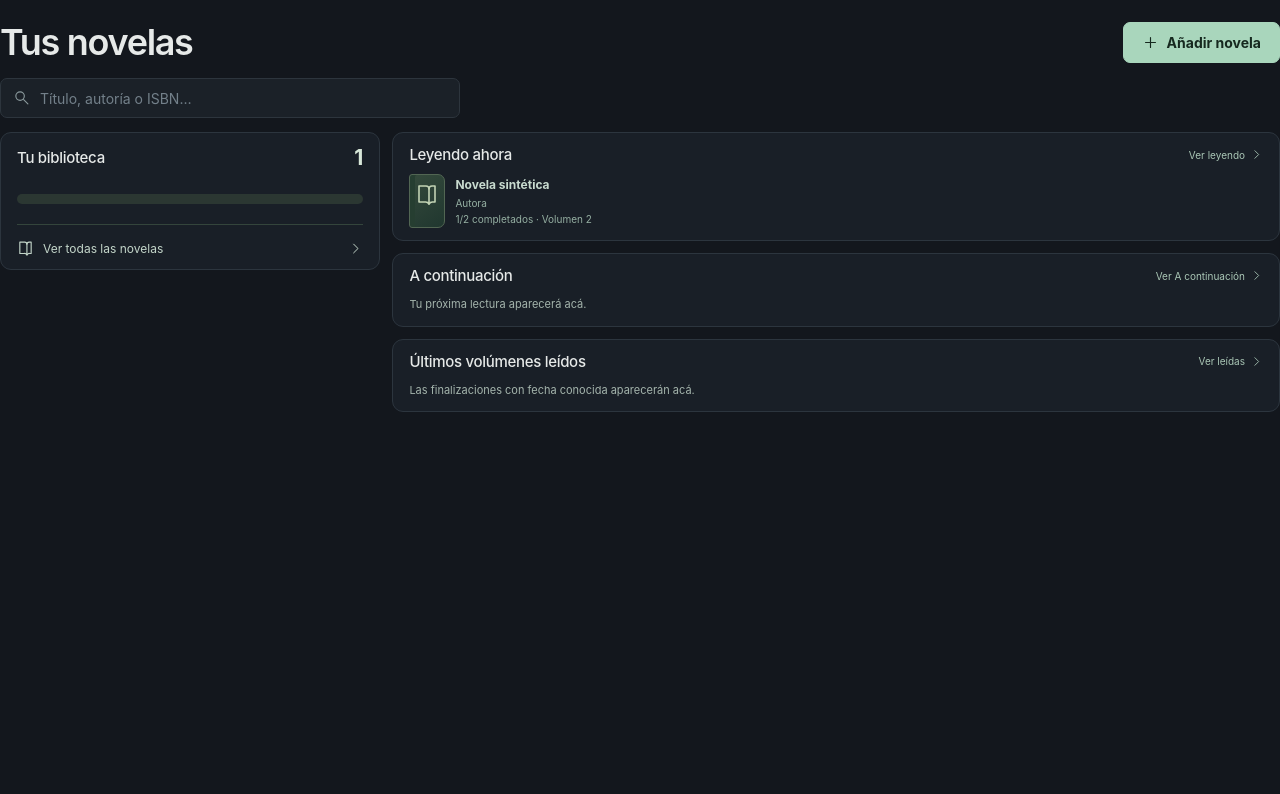
Scenario: al terminar N/N ofrece la acción explícita y no presenta un volumen N+1
Click the button with aria-label "Abrir novela Novela sintética": {"x": 427, "y": 201} [409, 174, 832, 228]
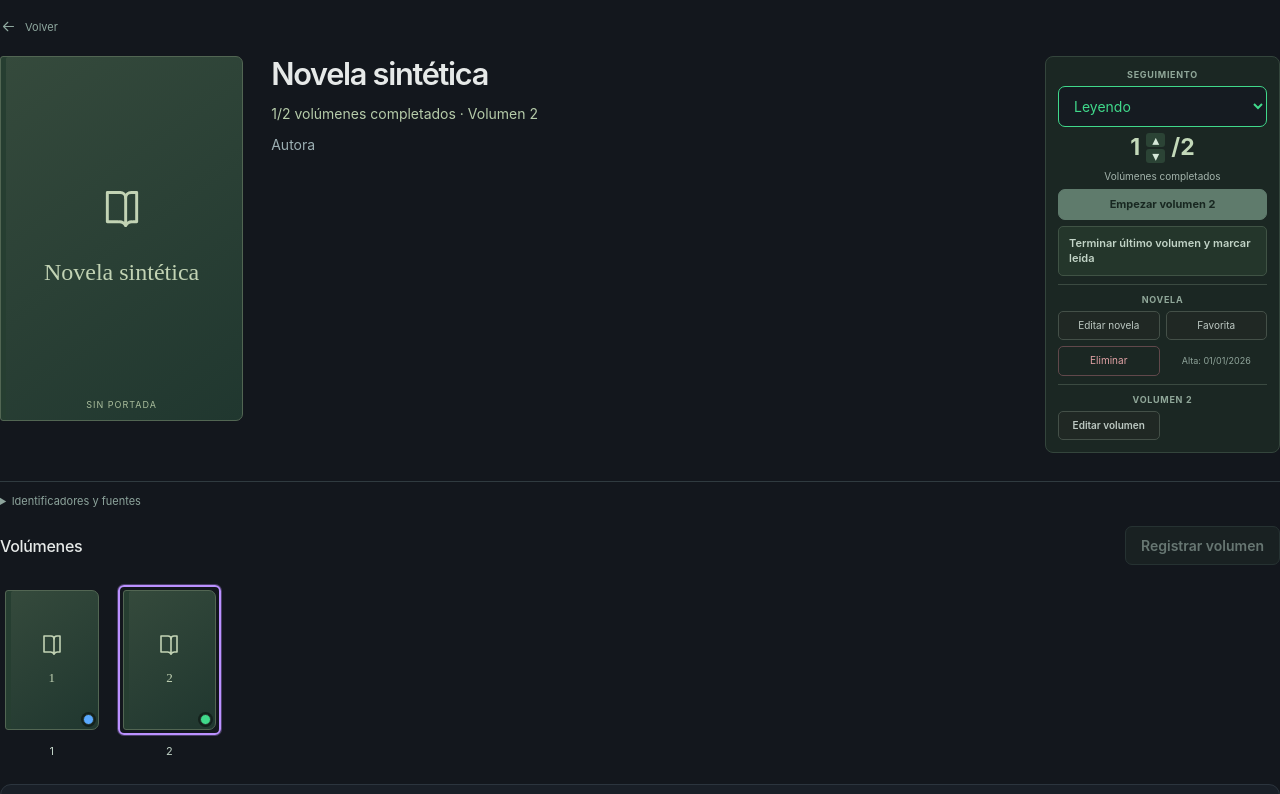
Click the button "Terminar último volumen y marcar leída": {"x": 1162, "y": 251} [1058, 226, 1267, 276]
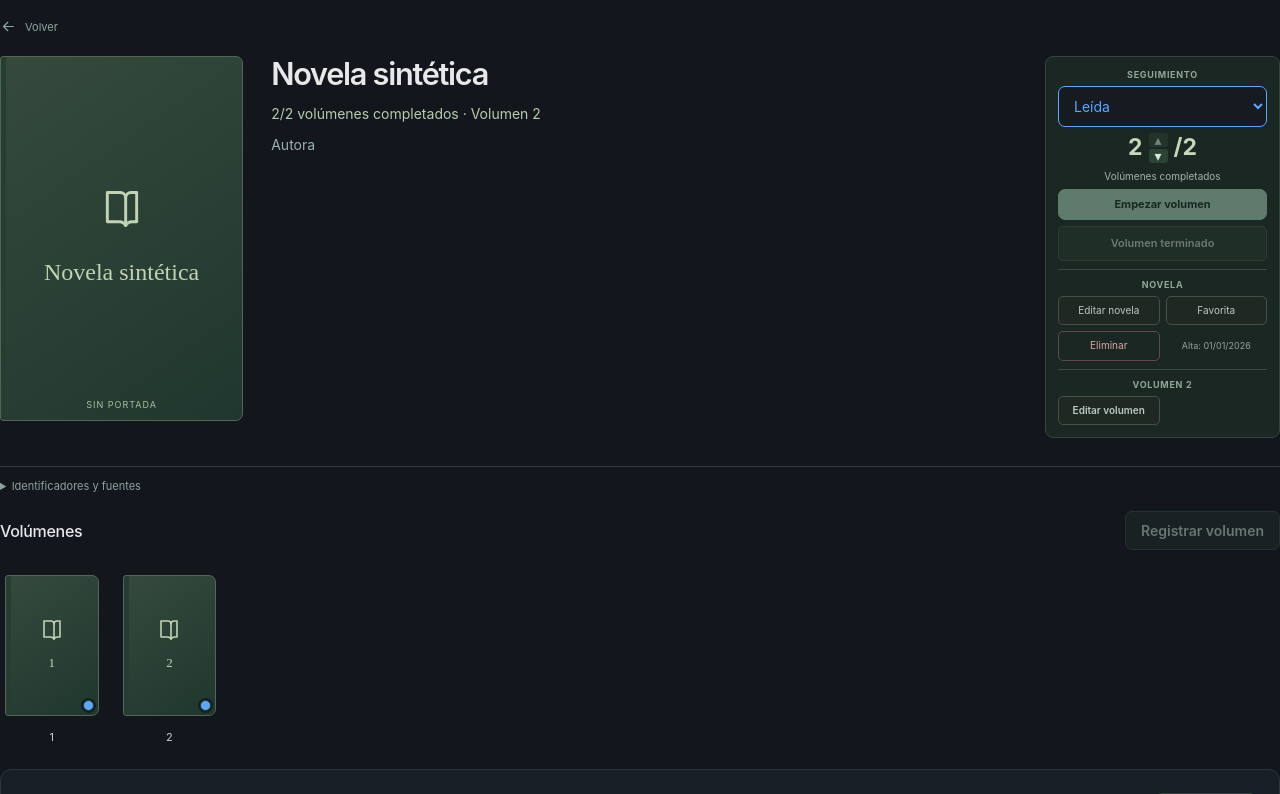
Result: the button "Empezar volumen" is disabled at [1058, 189, 1267, 220]
Result: the dropdown named "Estado de Novela sintética" shows "Leída" at [1058, 86, 1267, 127]
